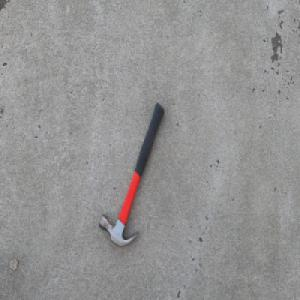Hammer: (98, 102, 165, 249)
